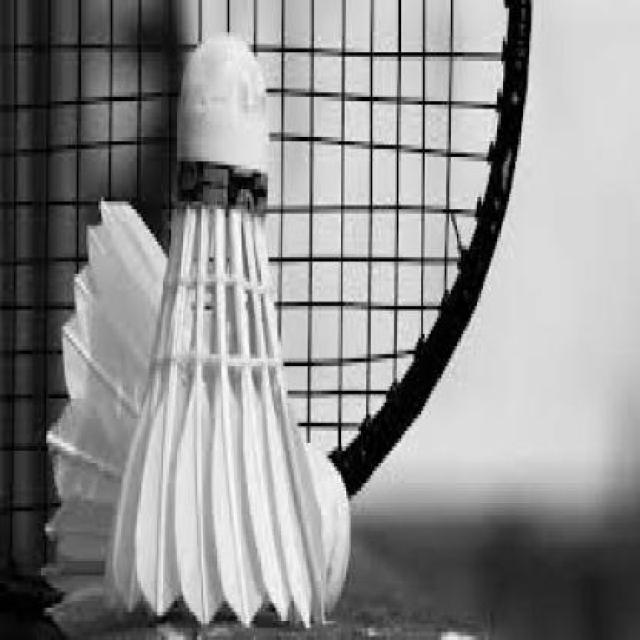Shuttlecock: (106, 35, 329, 631)
